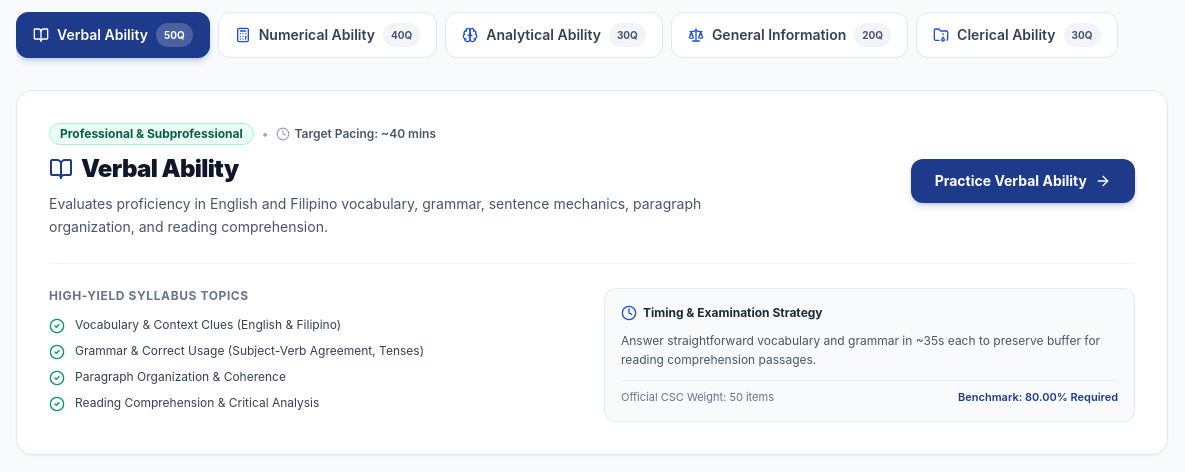
SubtestExplorer Component › switches to Clerical Ability and verifies Subprofessional exclusivity
Click the button "Clerical Ability 30Q". click: (1017, 35)
box: [916,12,1118,58]
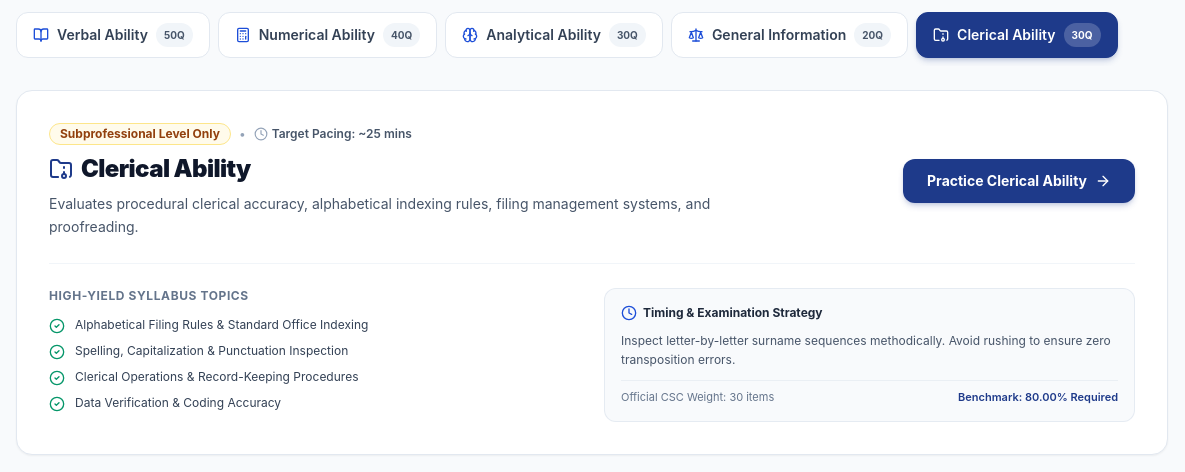
Result: the text "Subprofessional Level Only" is shown at [49,123,231,145]
Result: the text "Alphabetical Filing Rules & Standard Office Indexing" is shown at [75,316,368,334]
